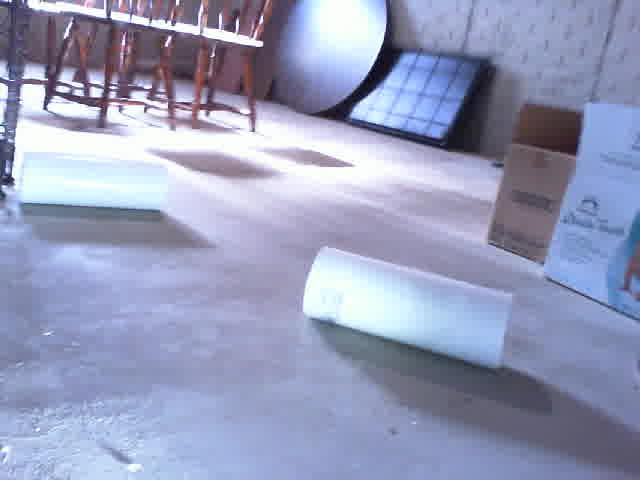coral: (300, 240, 519, 370), (20, 143, 175, 220)
